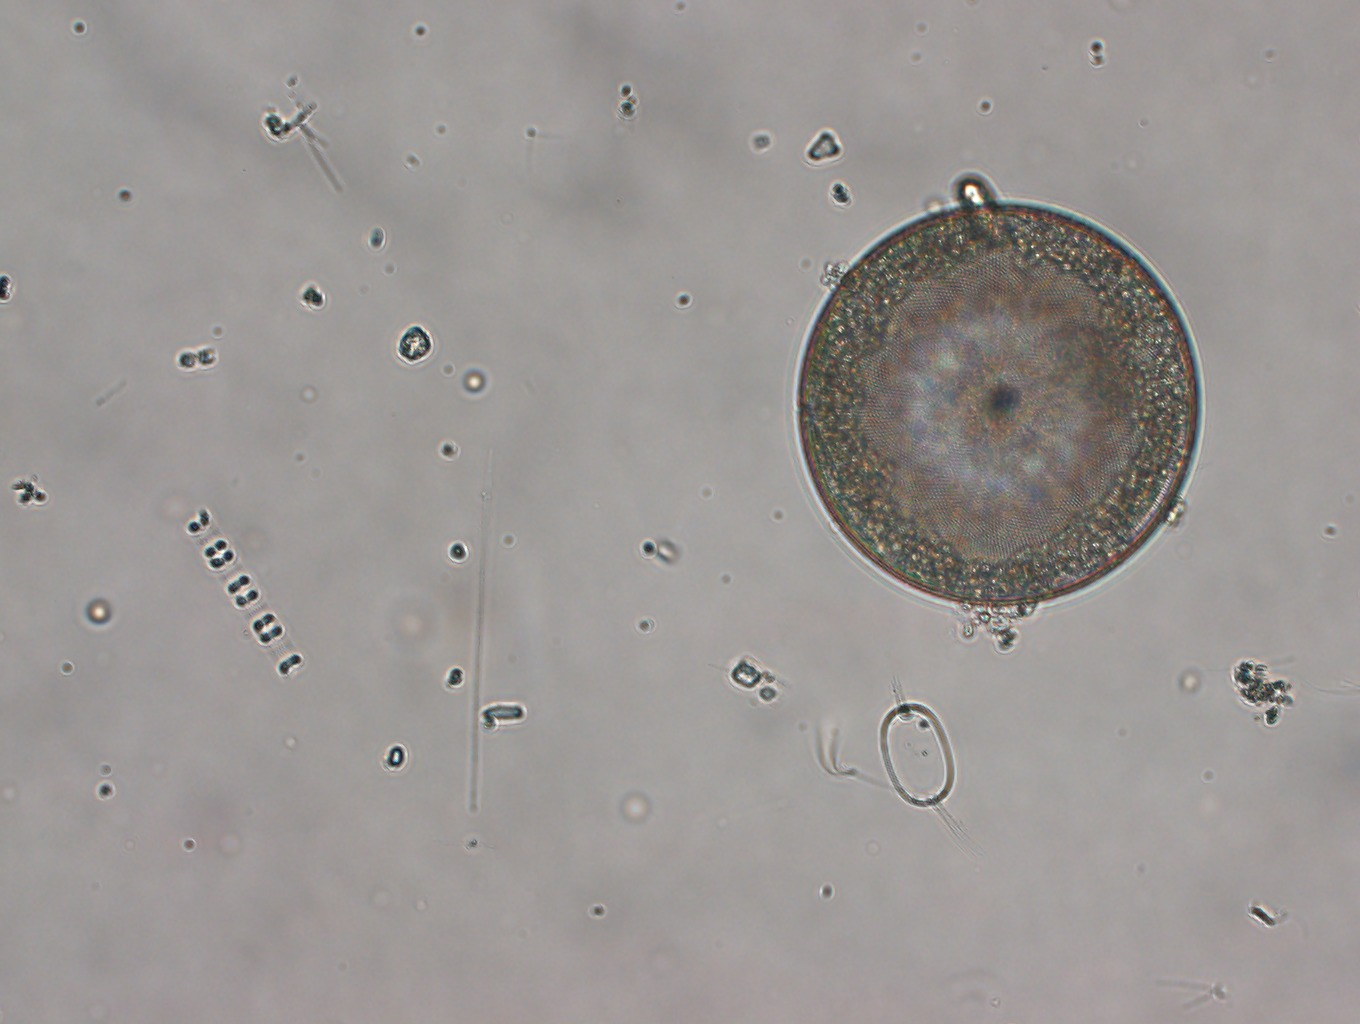skeletonema: (782, 191, 1211, 617), (184, 504, 303, 682)
